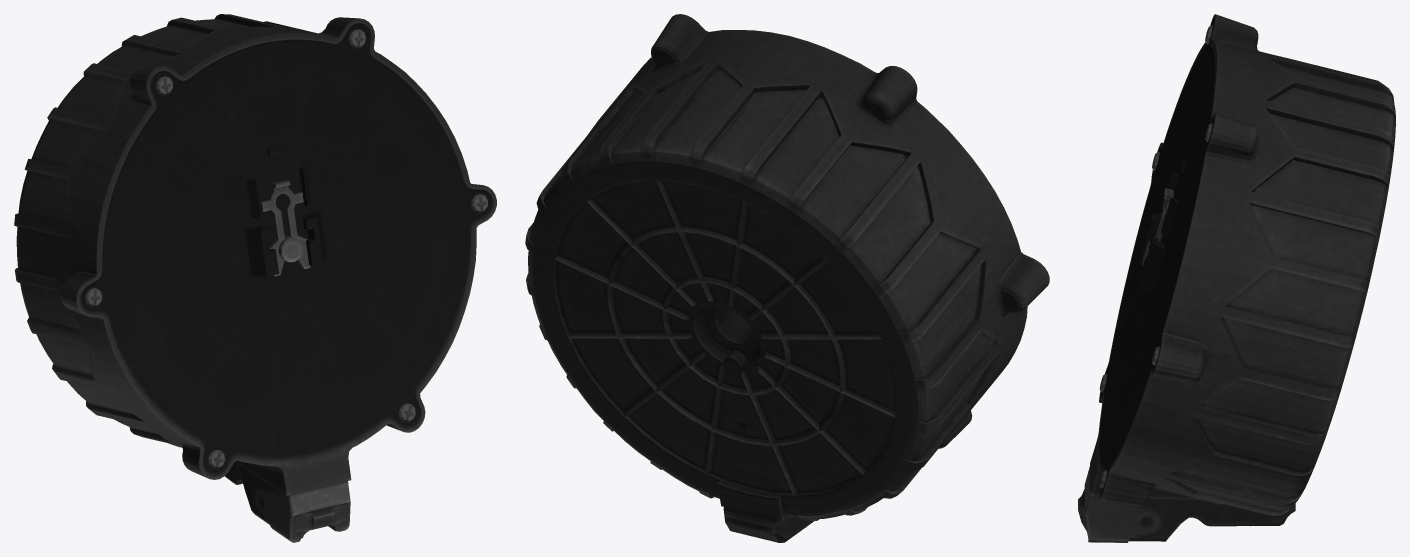
3 renders of one model, left to right at view 1: azimuth 30°, elevation 25°; view 2: azimuth 150°, elevation 25°; view 3: azimuth 270°, elevation 25°, orthographic. The views are drawn at different scales.
Visible parts, largest first — view 1: TW_674fe8f6f34d761ab8020cc8_PZ_Import; view 2: TW_674fe8f6f34d761ab8020cc8_PZ_Import; view 3: TW_674fe8f6f34d761ab8020cc8_PZ_Import.
Part boxes in pixels (bbox=[...]): TW_674fe8f6f34d761ab8020cc8_PZ_Import: bbox=[14, 14, 496, 542]; TW_674fe8f6f34d761ab8020cc8_PZ_Import: bbox=[525, 14, 1049, 542]; TW_674fe8f6f34d761ab8020cc8_PZ_Import: bbox=[1078, 14, 1395, 542].
Size of the model in its own units: 0.1161 by 0.0736 by 0.12.
1 material, 1 textured.
